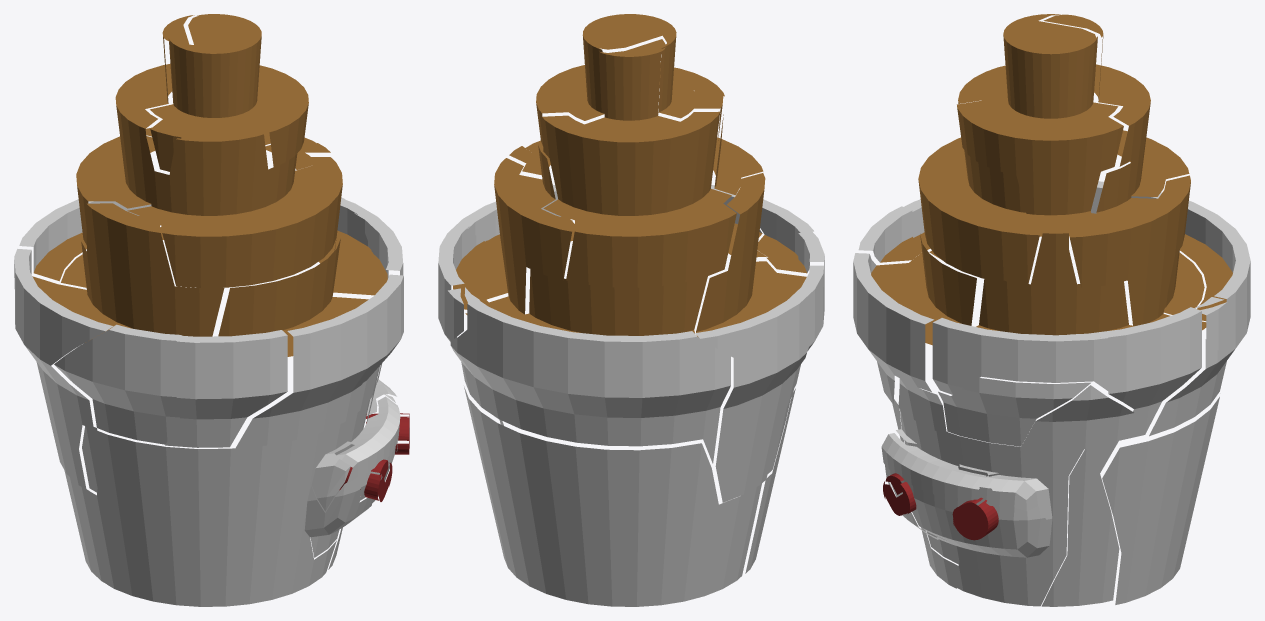
File: chocolateFountain-explosion.glb
3 views of the same model, side by side, from view 1: azimuth 30°, elevation 25°; view 2: azimuth 150°, elevation 25°; view 3: azimuth 270°, elevation 25° (orthographic).
Parts seen in each view (by area): view 1: Cylinder.027, Cylinder.007, Cylinder.009, Cylinder.015, Cylinder.003, Cylinder.006, Cylinder.008, Cylinder.004, Cylinder.025, Cylinder.012, Cylinder.023, Cylinder.030 (+7 smaller); view 2: Cylinder.021, Cylinder.004, Cylinder.012, Cylinder.009, Cylinder.018, Cylinder.003, Cylinder.017, Cylinder.022, Cylinder.007, Cylinder.008, Cylinder.006, Cylinder.025 (+2 smaller); view 3: Cylinder.003, Cylinder.025, Cylinder.007, Cylinder.021, Cylinder.017, Cylinder.015, Cylinder.022, Cylinder.016, Cylinder.012, Cylinder.020, Cylinder.031, Cylinder.004 (+13 smaller).
Part boxes in pixels (left/top/right/bottom): Cylinder.027: left=88, top=424, right=339, bottom=606; Cylinder.007: left=127, top=127, right=342, bottom=287; Cylinder.009: left=14, top=203, right=224, bottom=489; Cylinder.015: left=218, top=239, right=403, bottom=448; Cylinder.003: left=150, top=14, right=317, bottom=171; Cylinder.006: left=54, top=324, right=181, bottom=492; Cylinder.008: left=165, top=330, right=287, bottom=447; Cylinder.004: left=76, top=15, right=194, bottom=245; Cylinder.025: left=300, top=143, right=403, bottom=295; Cylinder.012: left=19, top=199, right=161, bottom=281; Cylinder.023: left=336, top=396, right=400, bottom=484; Cylinder.030: left=304, top=474, right=372, bottom=537; Cylinder.021: left=464, top=386, right=761, bottom=606; Cylinder.004: left=542, top=39, right=736, bottom=287; Cylinder.012: left=450, top=300, right=730, bottom=463; Cylinder.009: left=695, top=173, right=823, bottom=502; Cylinder.018: left=464, top=269, right=707, bottom=335; Cylinder.003: left=522, top=14, right=723, bottom=175; Cylinder.017: left=489, top=145, right=572, bottom=316; Cylinder.022: left=438, top=226, right=507, bottom=341; Cylinder.007: left=525, top=67, right=763, bottom=195; Cylinder.008: left=757, top=199, right=813, bottom=259; Cylinder.006: left=766, top=231, right=824, bottom=473; Cylinder.025: left=444, top=146, right=574, bottom=251; Cylinder.003: left=957, top=14, right=1123, bottom=225; Cylinder.025: left=932, top=222, right=1112, bottom=394; Cylinder.007: left=918, top=70, right=1051, bottom=283; Cylinder.021: left=1102, top=397, right=1219, bottom=604; Cylinder.017: left=1069, top=163, right=1190, bottom=325; Cylinder.015: left=853, top=235, right=976, bottom=404; Cylinder.022: left=1064, top=234, right=1201, bottom=440; Cylinder.016: left=946, top=432, right=1083, bottom=606; Cylinder.012: left=1149, top=200, right=1250, bottom=436; Cylinder.020: left=1041, top=445, right=1119, bottom=606; Cylinder.031: left=938, top=378, right=1090, bottom=446; Cylinder.004: left=1043, top=14, right=1189, bottom=196.
Size of the model in its own units: 5.97 by 8.77 by 6.01.
